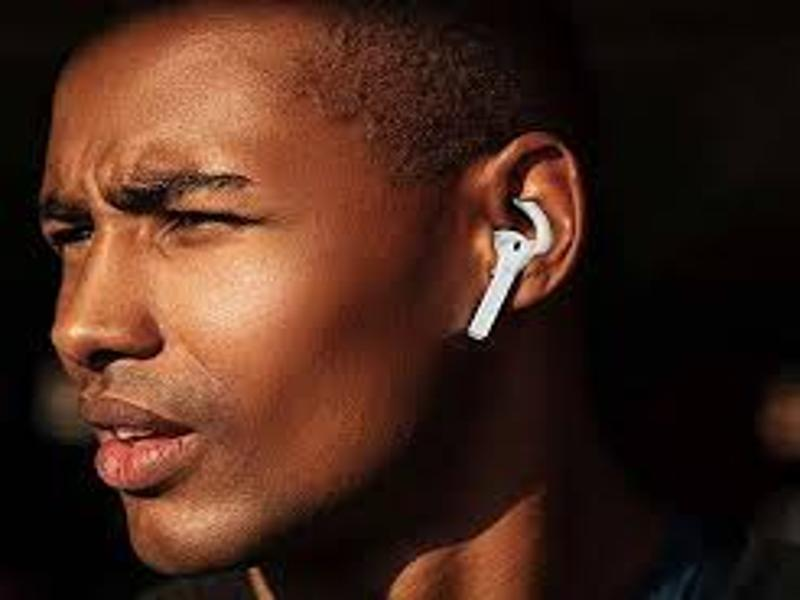headphone: (466, 199, 551, 340)
